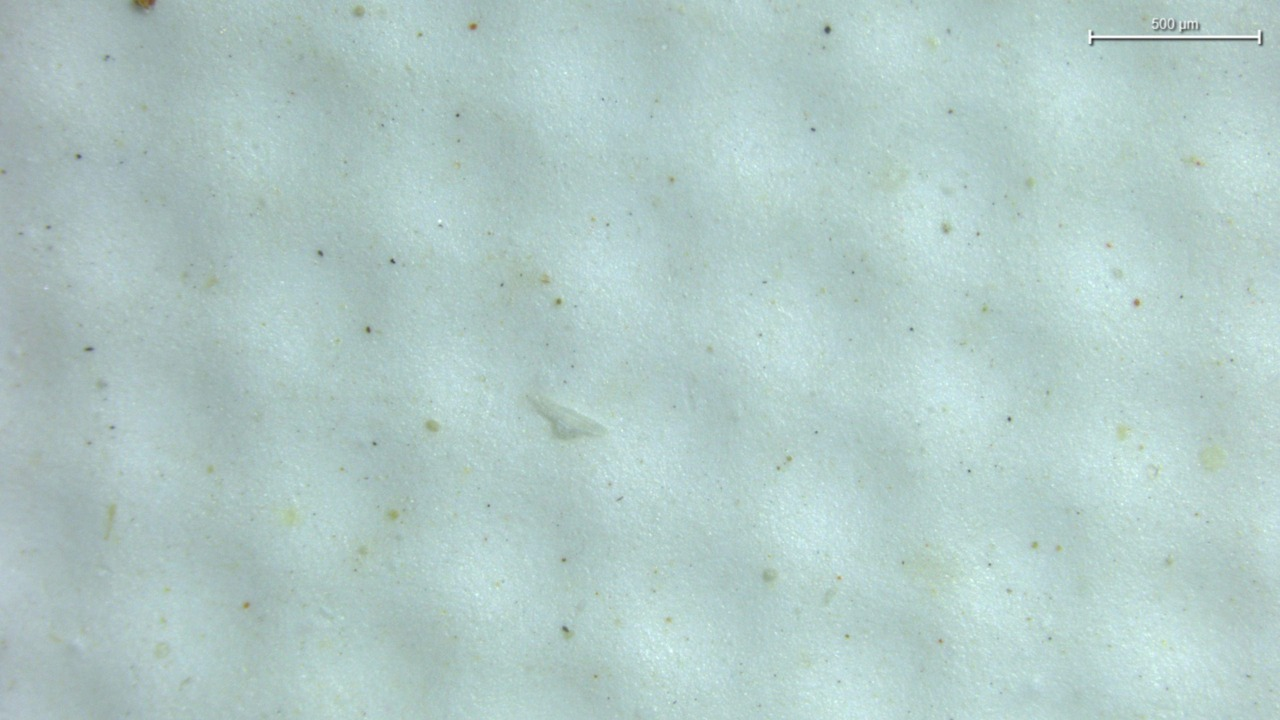microplastic_fragment: (526, 395, 606, 440)
